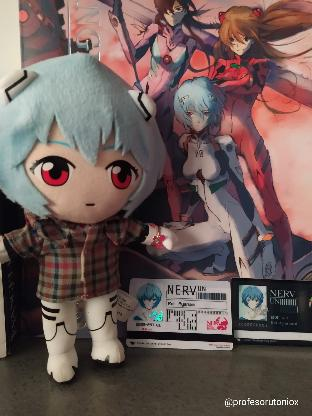rei-plush: (0, 53, 168, 227)
